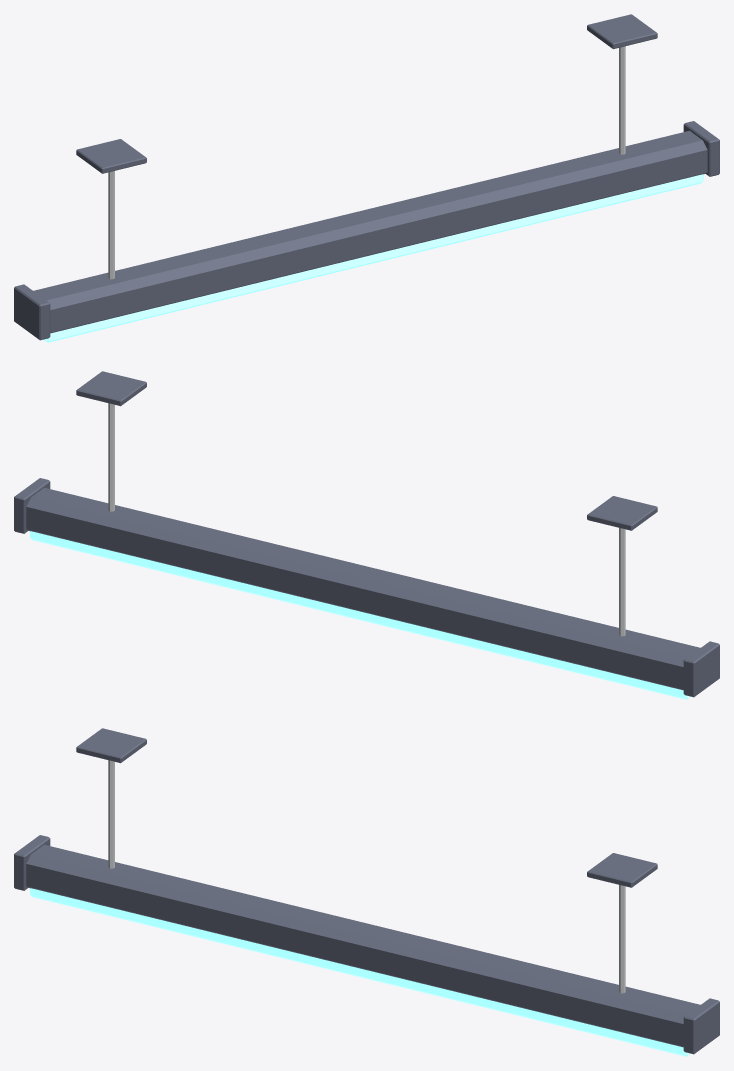
Rendered from ceiling-light.glb.
The picture shows the model from 3 angles, top to bottom: view 1: azimuth 30°, elevation 25°; view 2: azimuth 150°, elevation 25°; view 3: azimuth 330°, elevation 25°; orthographic projection.
Visible parts, largest first — view 1: ceiling-light-bar; view 2: ceiling-light-bar; view 3: ceiling-light-bar.
Part boxes in pixels (<box>): ceiling-light-bar: <box>14,14,719,342</box>; ceiling-light-bar: <box>14,371,719,699</box>; ceiling-light-bar: <box>14,728,719,1056</box>.
Size of the model in its own units: 2.4 by 0.5601 by 0.16.
